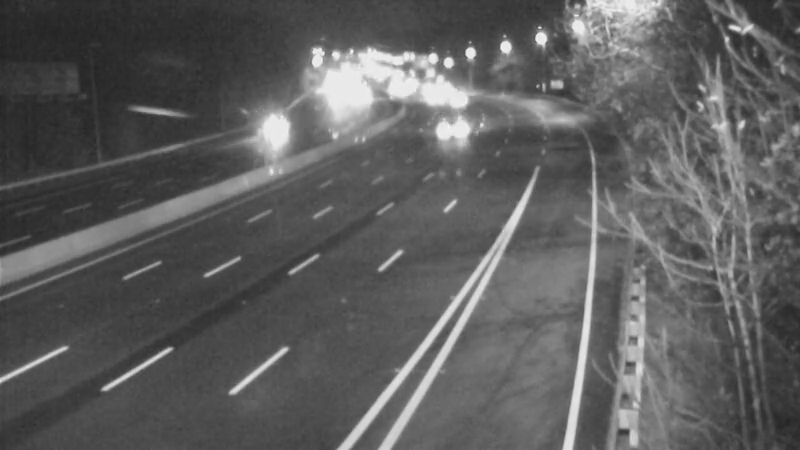vehicle: (426, 107, 476, 157), (259, 100, 309, 150)
